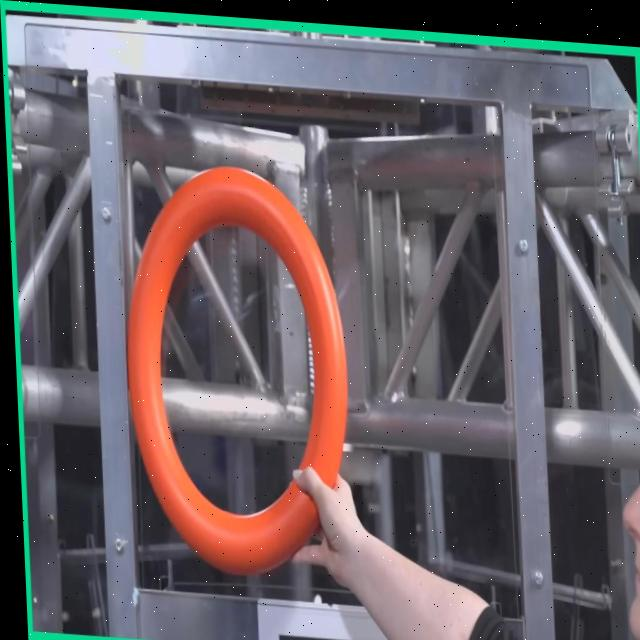note: (116, 153, 351, 580)
